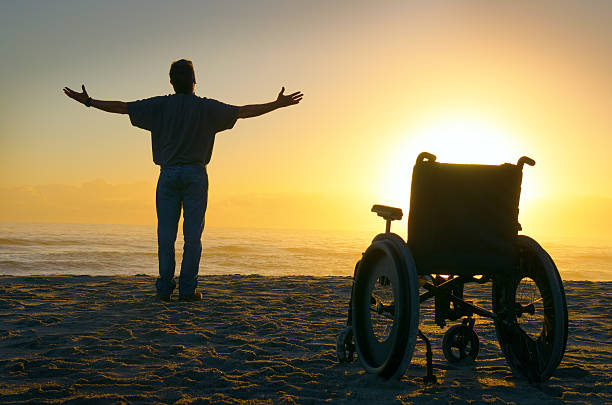wheel_chair: (333, 150, 577, 388)
